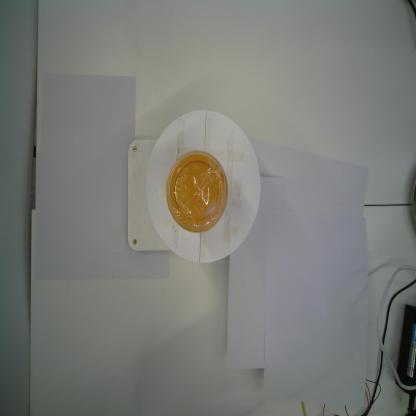Instant Drink: (166, 148, 229, 233)
